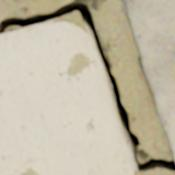brick: (0, 22, 134, 174), (122, 0, 174, 158)
crack: (0, 1, 174, 173)
